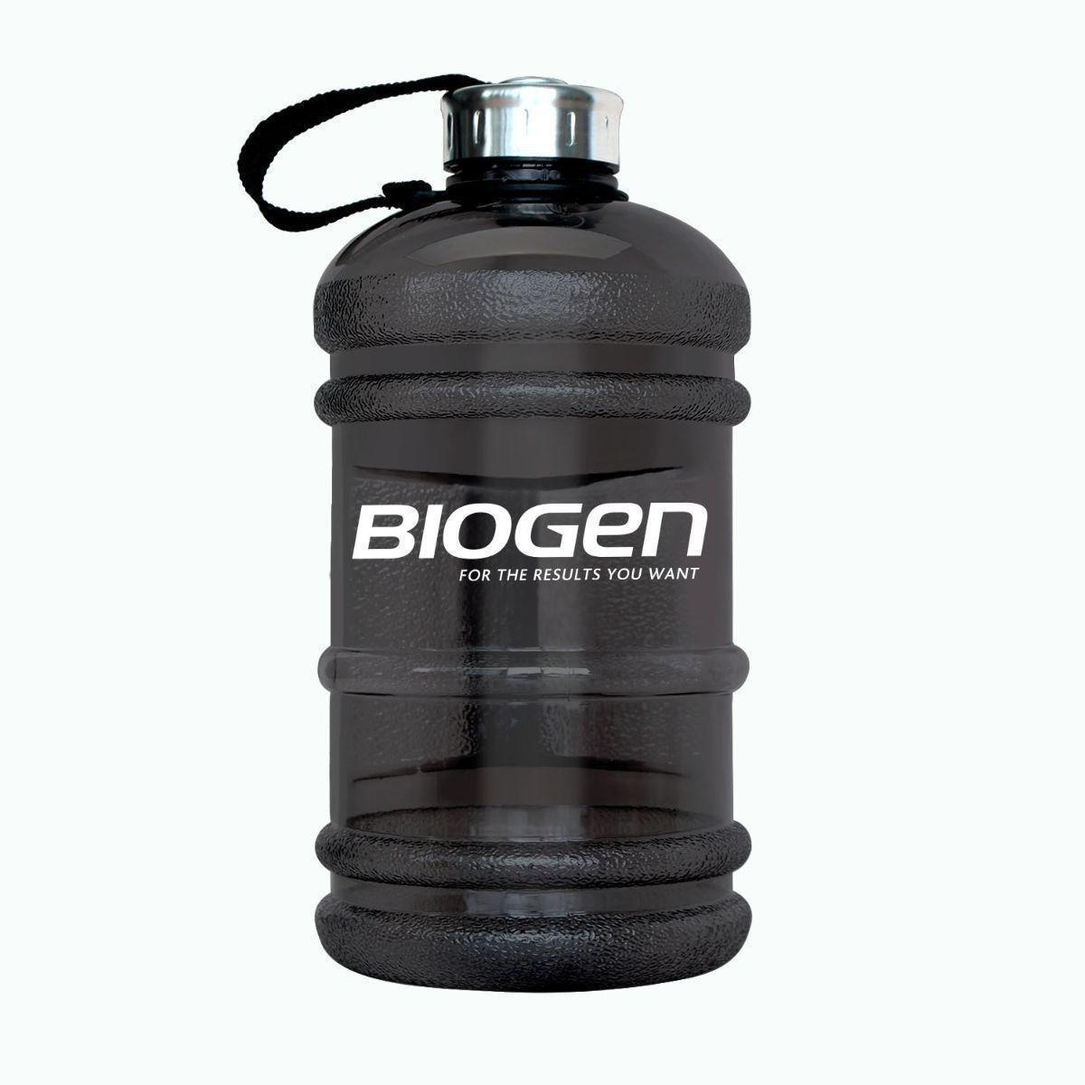gym bottle: (253, 66, 761, 995)
